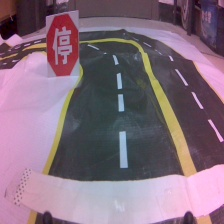stop: (44, 9, 80, 79)
